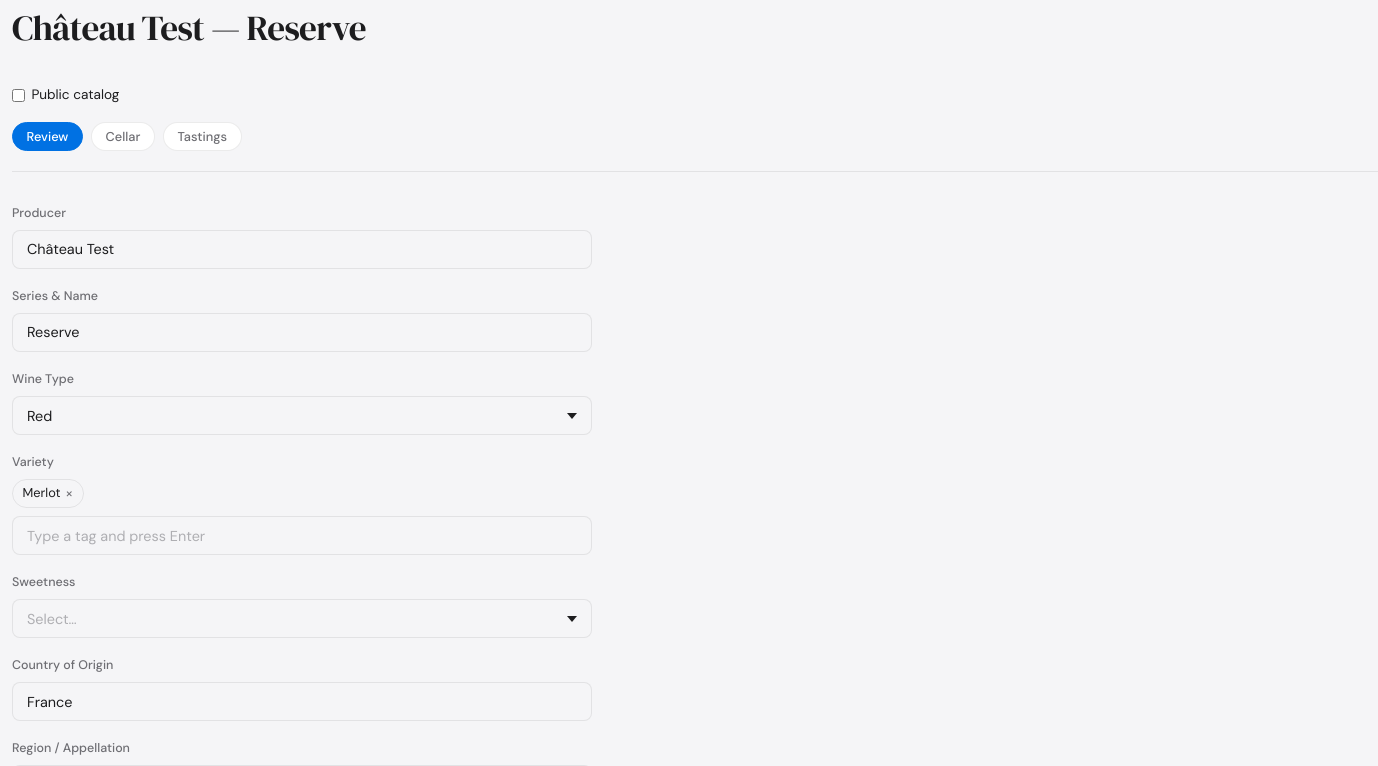
Scenario: selecting the placeholder option in CustomSelect clears the value
Click the button named "wine type". click: coordinates (40, 416)
box: [12,396,592,435]
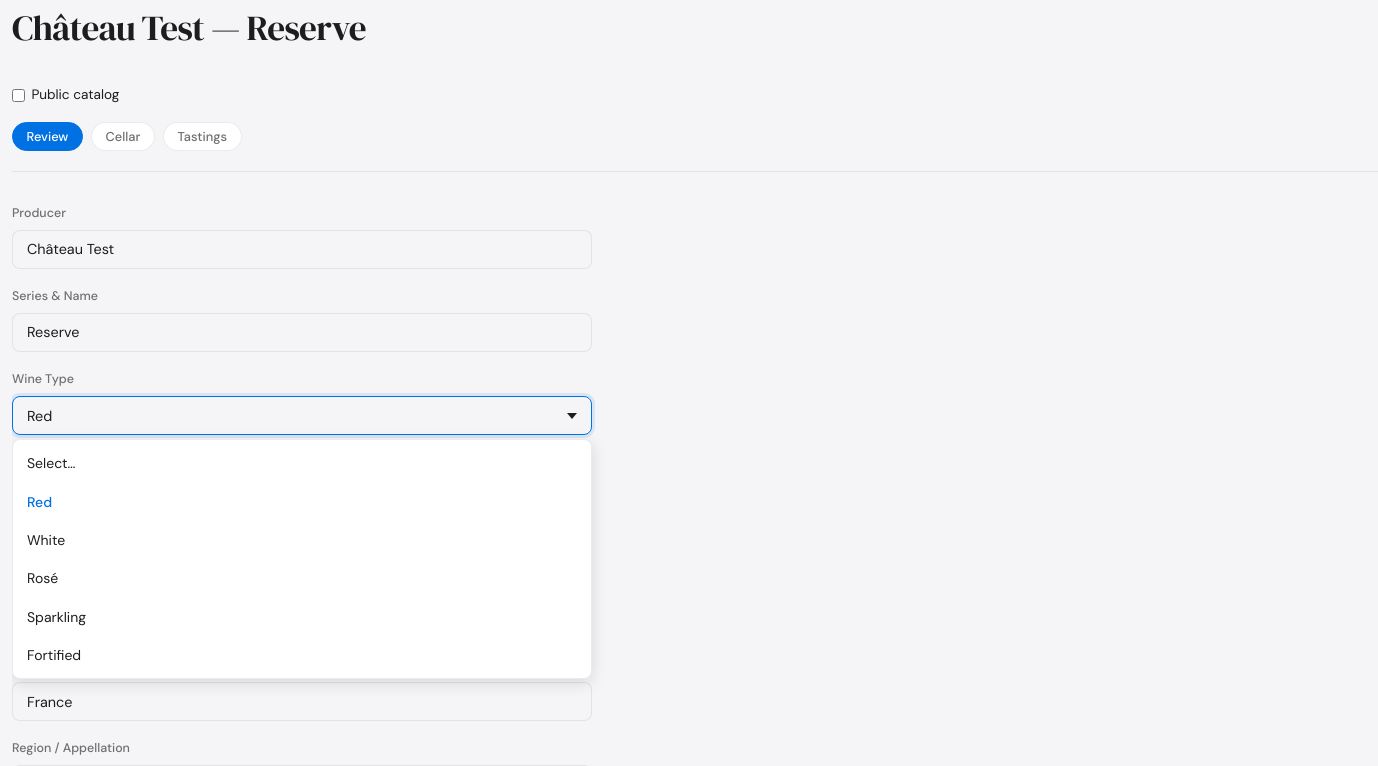
Press the mouse on the list item "Select…" at coordinates (51, 463), box [27,454,75,472]
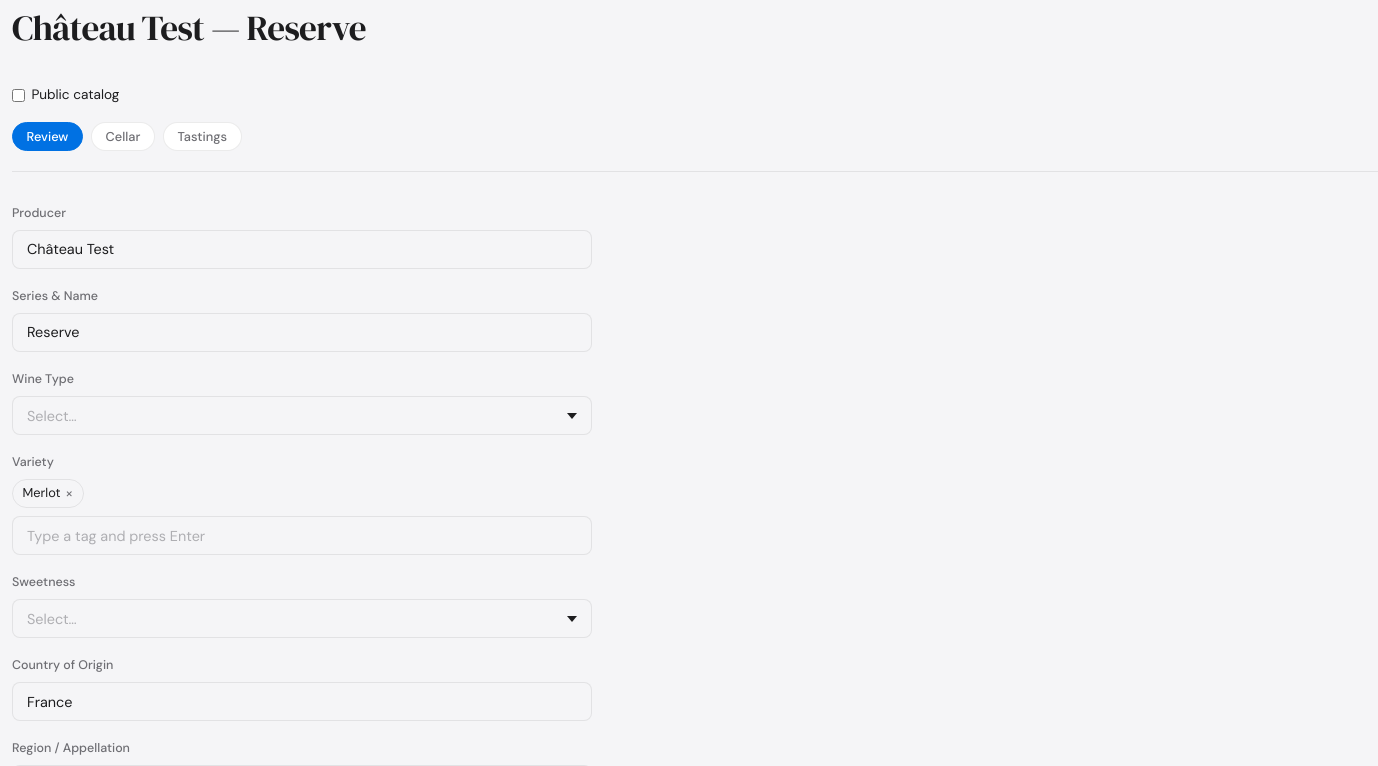
Result: the list with class "custom-select-menu" is gone
Result: the button named "wine type" reads "Select…" at [12,396,592,435]
